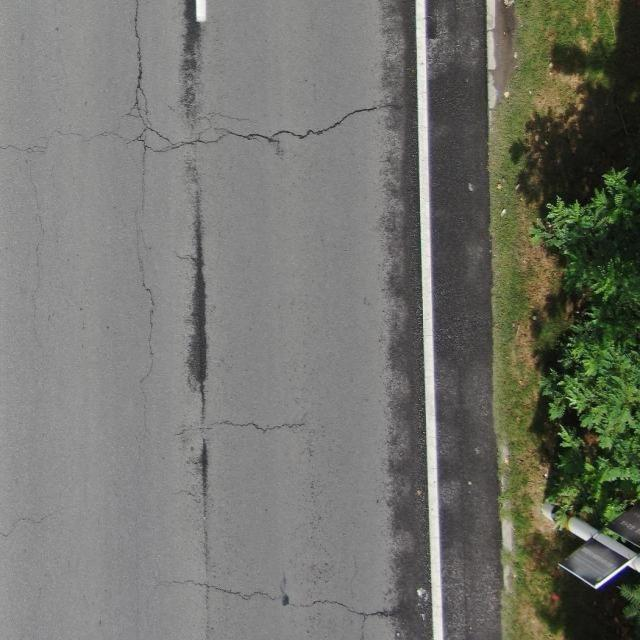GRIETA: (225, 103, 395, 141), (185, 150, 207, 422), (135, 211, 154, 384), (25, 159, 43, 317), (0, 128, 102, 153), (160, 580, 280, 601), (181, 0, 200, 123), (199, 440, 209, 639), (0, 512, 54, 537), (314, 600, 383, 616), (213, 420, 304, 432), (134, 0, 143, 89), (141, 151, 145, 208)
PIEL DE COCODRILO: (104, 84, 250, 156)
